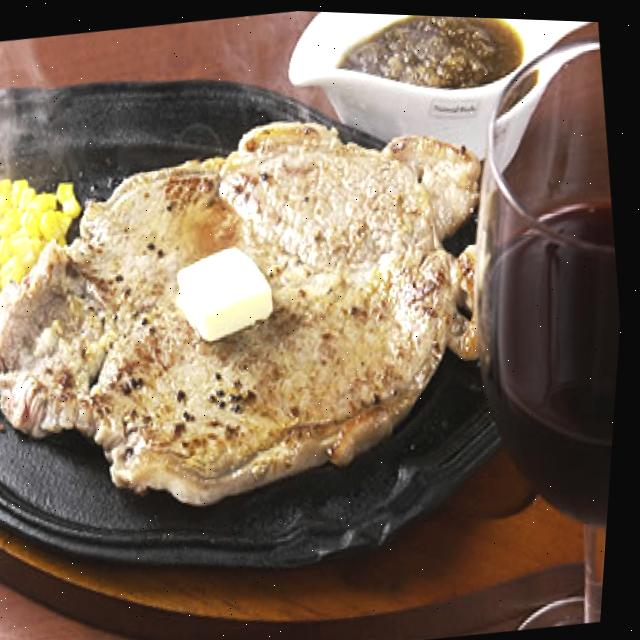牛肉菜式: (0, 78, 536, 544)
